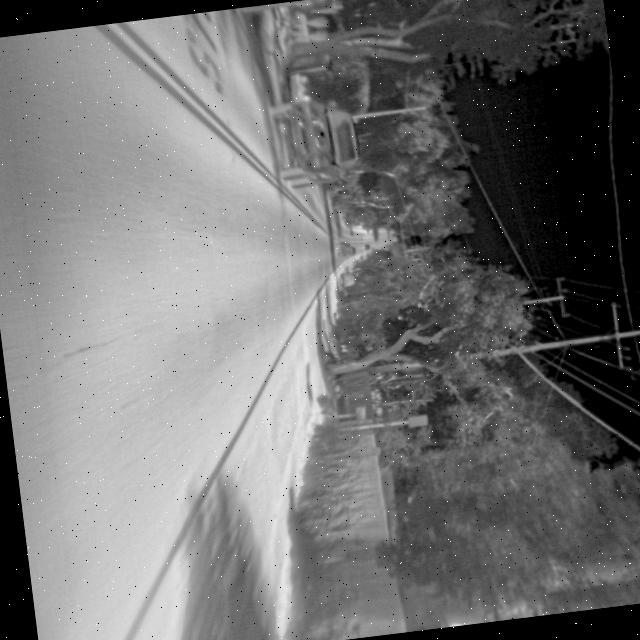Vehicle: (266, 89, 368, 192)
